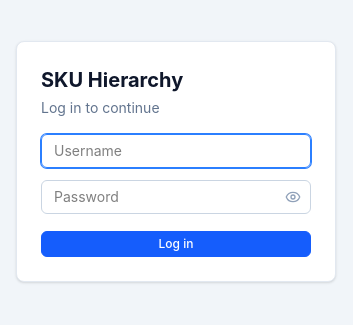
it: LoginForm › shows an error and does not log in on invalid credentials
Type "admin" into the field with placeholder "Username" at [176, 150], box [41,134,311,168]
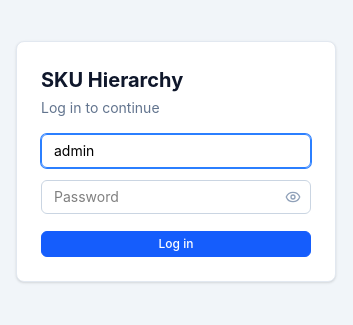
Type "wrong" into the password field with placeholder "Password" at [176, 196], box [41,180,311,214]
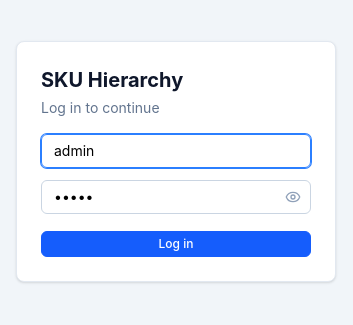
Click the button "Log in" at [176, 244], box [41,230,311,256]
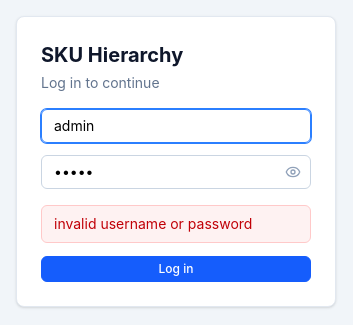
Result: the text "invalid username or password" is shown at [41,204,311,242]
